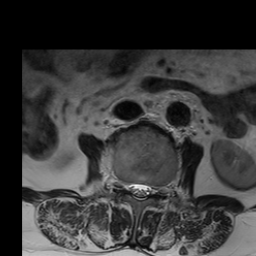CCS_normal: (136, 174, 143, 208)
LFS_normal: (152, 175, 161, 203)
LLS_normal: (143, 176, 152, 203)
RFS_normal: (120, 170, 128, 199)
RLS_normal: (128, 174, 136, 201)
